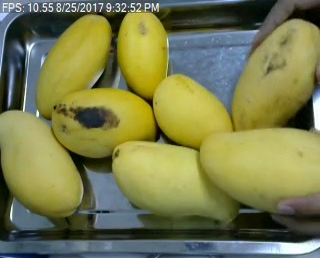Mango: (112, 139, 240, 222), (201, 127, 320, 215), (230, 18, 320, 126), (0, 109, 83, 217), (36, 14, 111, 117), (49, 87, 159, 157), (153, 74, 235, 149), (117, 9, 169, 96)
